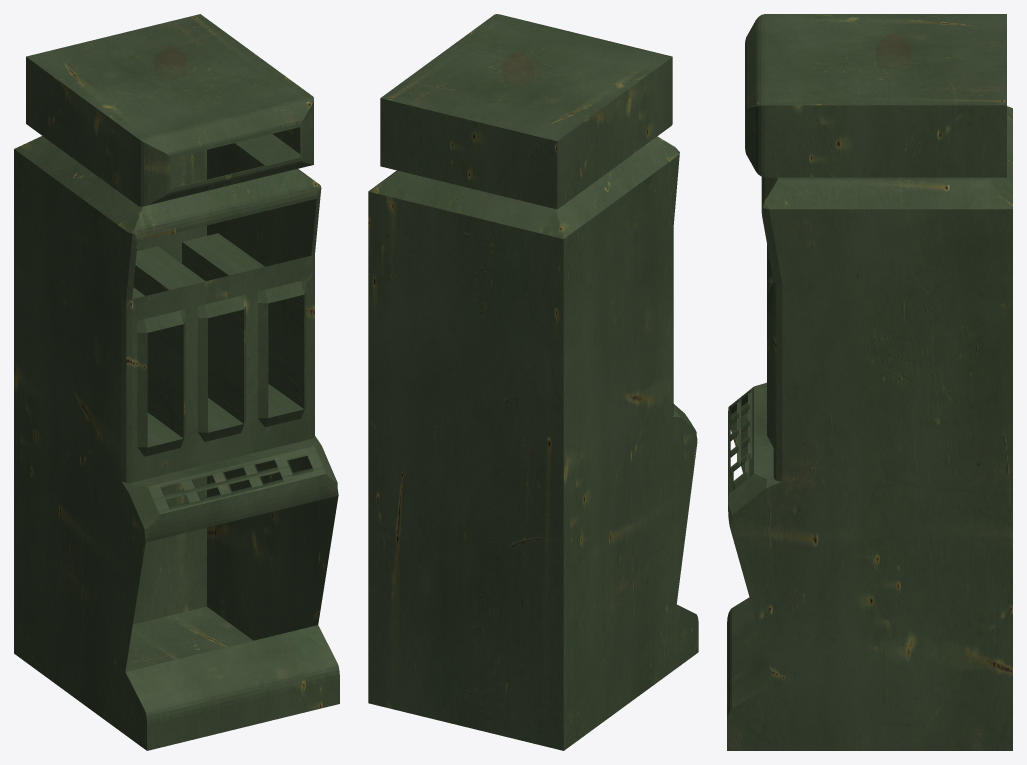
The model's file is THE_SlotMachine1.fbx.
3 views of the same model, side by side, from view 1: azimuth 30°, elevation 25°; view 2: azimuth 150°, elevation 25°; view 3: azimuth 270°, elevation 25° (orthographic). The views are drawn at different scales.
Visible parts, largest first — view 1: SlotMachine; view 2: SlotMachine; view 3: SlotMachine.
Part boxes in pixels (bbox=[...]): SlotMachine: bbox=[14, 14, 339, 750]; SlotMachine: bbox=[368, 14, 698, 750]; SlotMachine: bbox=[727, 14, 1012, 750].
Size of the model in its own units: 200 by 617 by 239.
